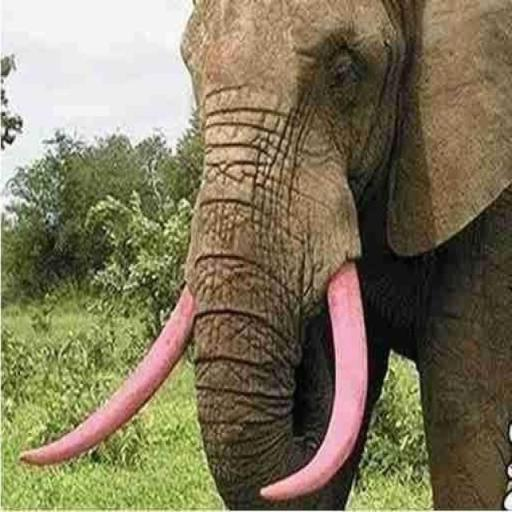Elephant: (19, 0, 511, 510)
